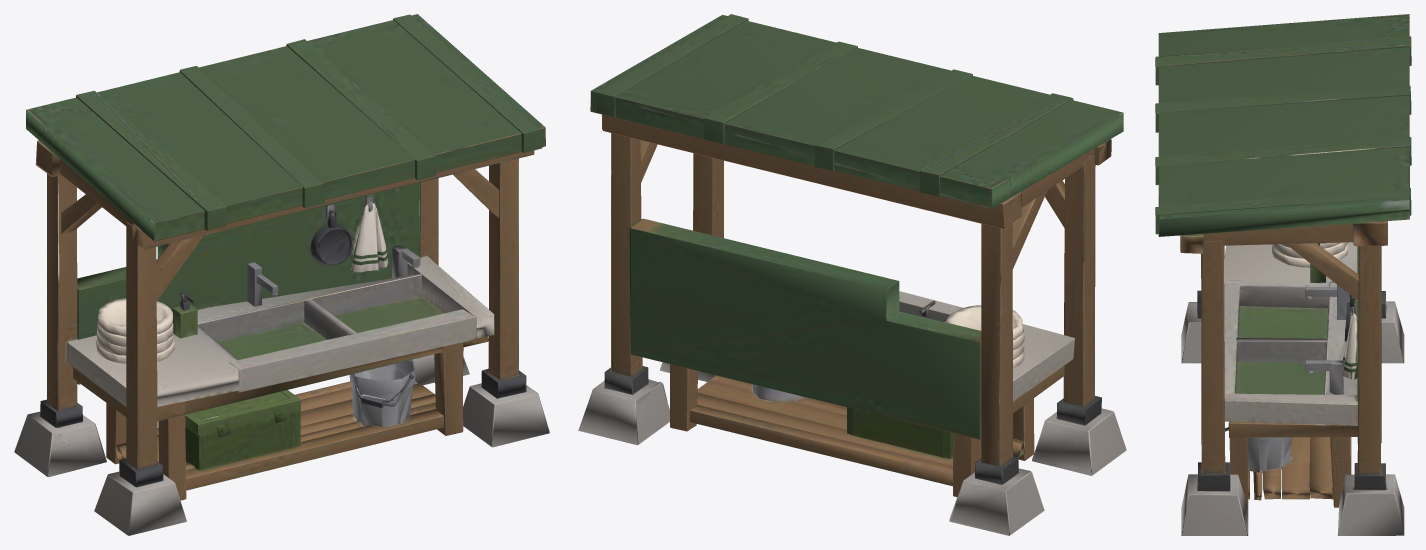
Rendered from building-5-wash.glb.
3 views of the same model, side by side, from view 1: azimuth 30°, elevation 25°; view 2: azimuth 150°, elevation 25°; view 3: azimuth 270°, elevation 25° (orthographic). The views are drawn at different scales.
Bounding box in the file's own units: 0.9575 × 0.7388 × 0.5156.
Materials: 1 (1 with a texture image).
